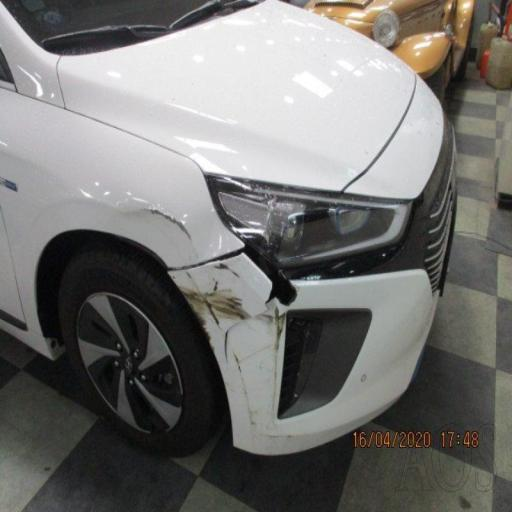dent: (28, 144, 174, 263)
scratch: (180, 167, 276, 389)
